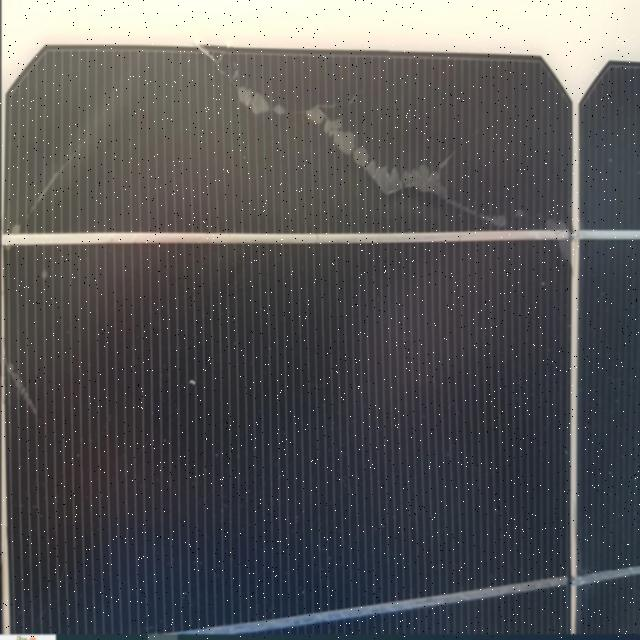electrical damage: (181, 52, 573, 254), (0, 324, 81, 454)
